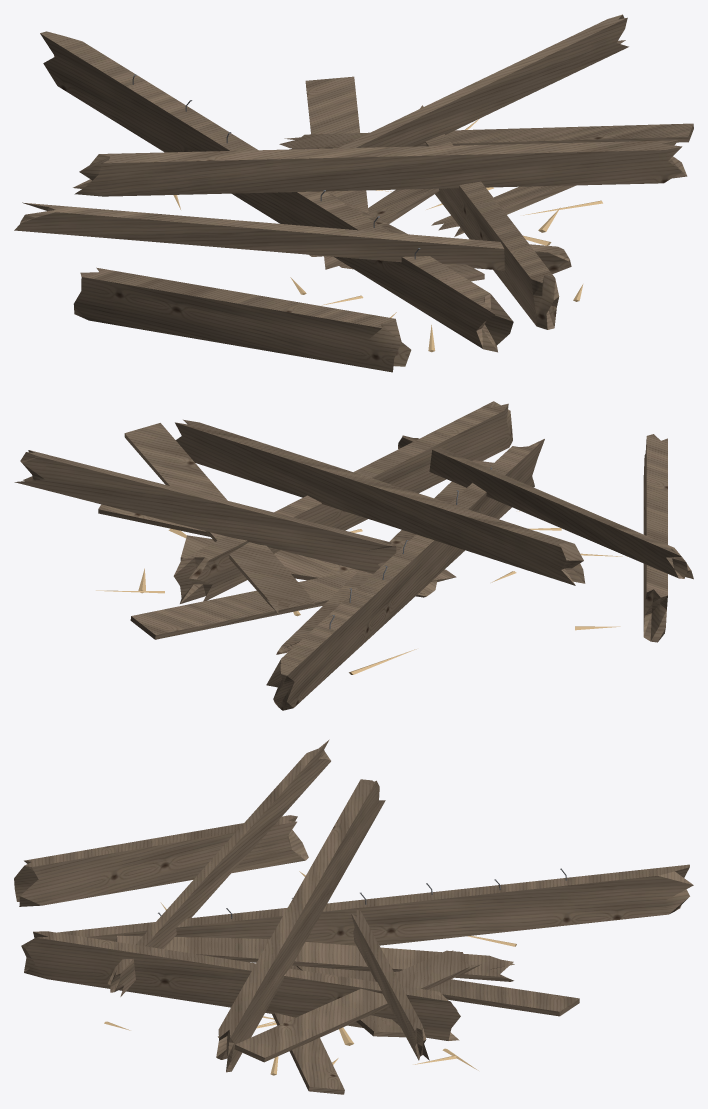
Rendered from snapped-timber-beams.glb.
3 views of the same model, one above another, from view 1: azimuth 30°, elevation 25°; view 2: azimuth 150°, elevation 25°; view 3: azimuth 270°, elevation 25° (orthographic). The views are drawn at different scales.
Parts seen in each view (by area): view 1: Snapped_Timber_Beams; view 2: Snapped_Timber_Beams; view 3: Snapped_Timber_Beams.
Boxes of the visible parts, box(x1,y1,x2,y2) form: Snapped_Timber_Beams: box(14, 14, 693, 372); Snapped_Timber_Beams: box(14, 401, 693, 710); Snapped_Timber_Beams: box(14, 739, 693, 1094).
Bounding box in the file's own units: 3.04 × 0.5202 × 3.01.
3 materials, 1 textured.
